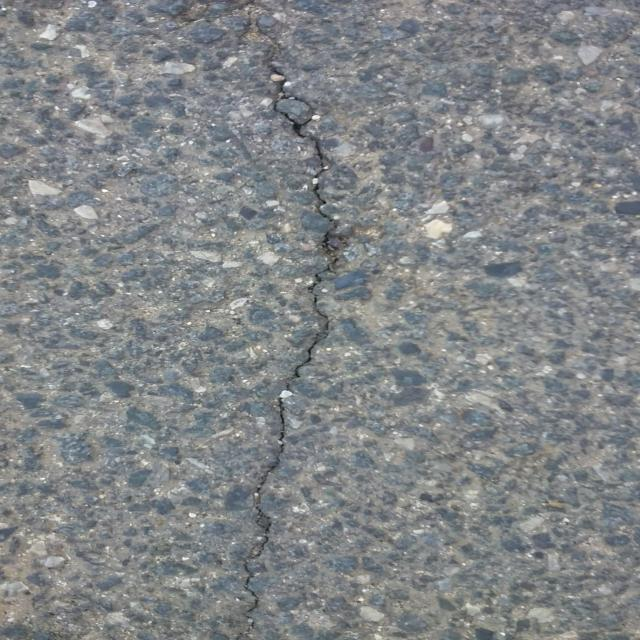Crack: (175, 0, 350, 640)
